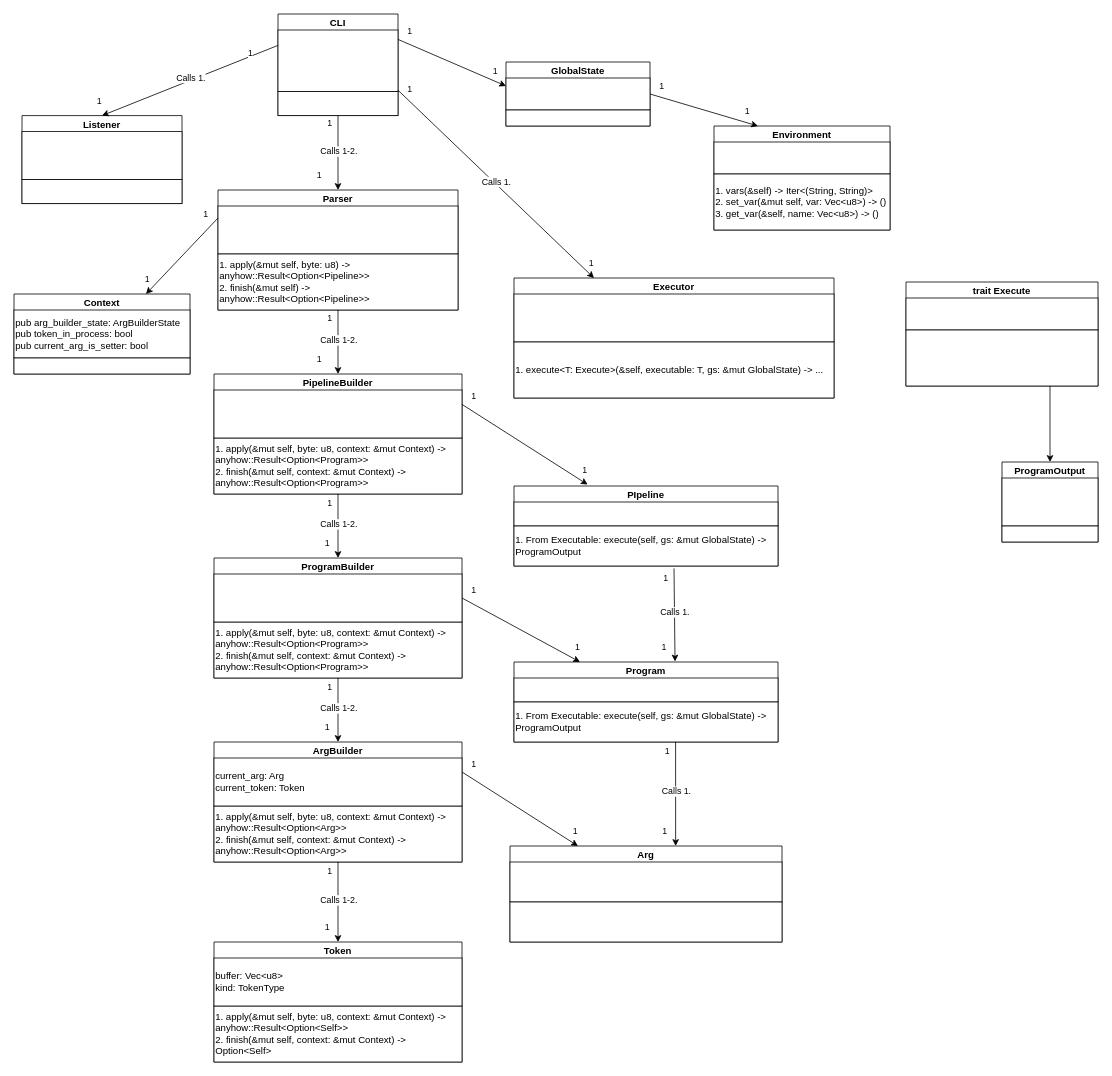
Some shapes in this 1112 by 1076 pixel diagram are drawn without their labels. The shapes that lost their labels are listed below. From the top down, each one's centre as x and y in pixels, then its label:
point (337, 60): listener: Listener parser: Parser global_state: GlobalState executor: Executor
point (337, 103): 1. start()
point (577, 93): pub environment: Environment
point (801, 157): map: HashMap<String, String>
point (101, 191): 1. listen(&self) -> String
point (337, 229): pipeline_builder: PipelienBuilder context: Context
point (1001, 357): 1. execute(self, gs: &mut GlobalState) -> ProgramOutput
point (337, 413): current_pipeline: Pipeline program_builder: ProgramBuilder
point (645, 513): data: Vec<Program>
point (1049, 501): pub code: i32 pub stdout: Vec<u8> pub stderr: Vec<u8>
point (337, 597): current_program: Program arg_builder: ArgBuilder
point (645, 689): data: Vec<Arg>
point (645, 881): data: Vec<Token> kind: ArgType
point (645, 921): 1. into_string_with_executing(self, gs: &mut GlobalState) -> ProgramOutput
